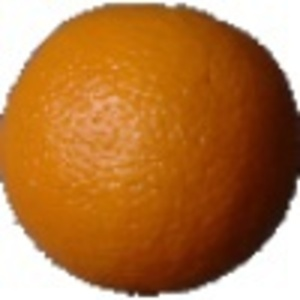laranja: (2, 5, 299, 298)
